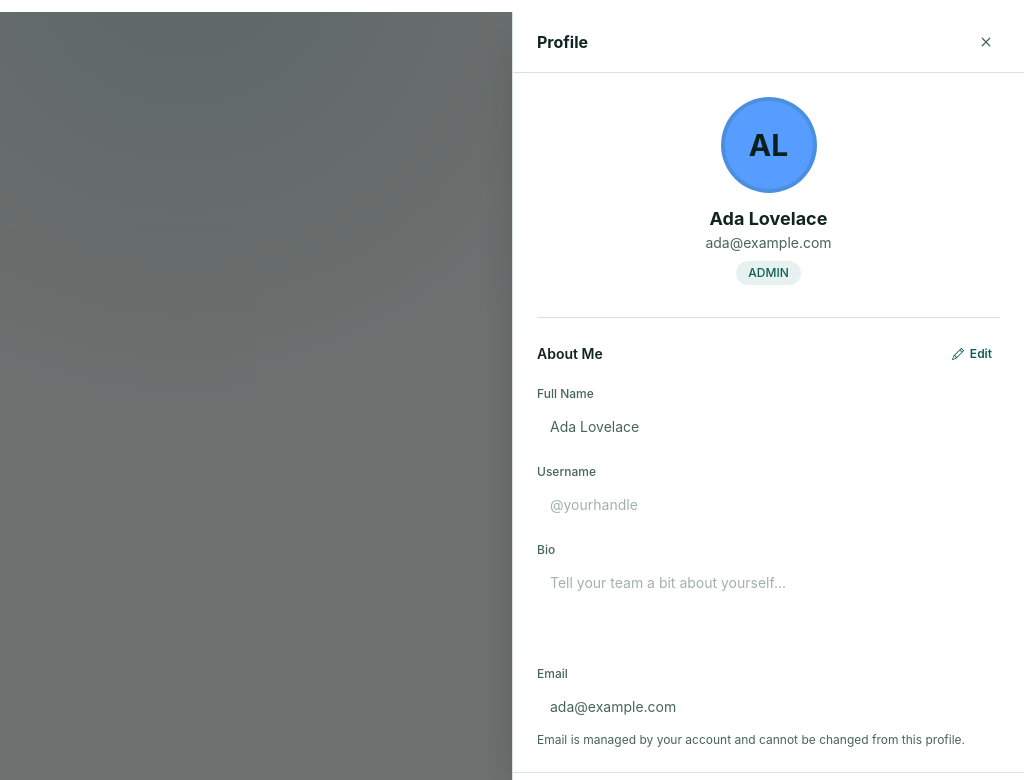
Test: profile form accessibility › lets a global administrator edit their own profile and change their own password
Click the button "Edit": (972, 354) [944,342,1000,366]
(page scrolled)
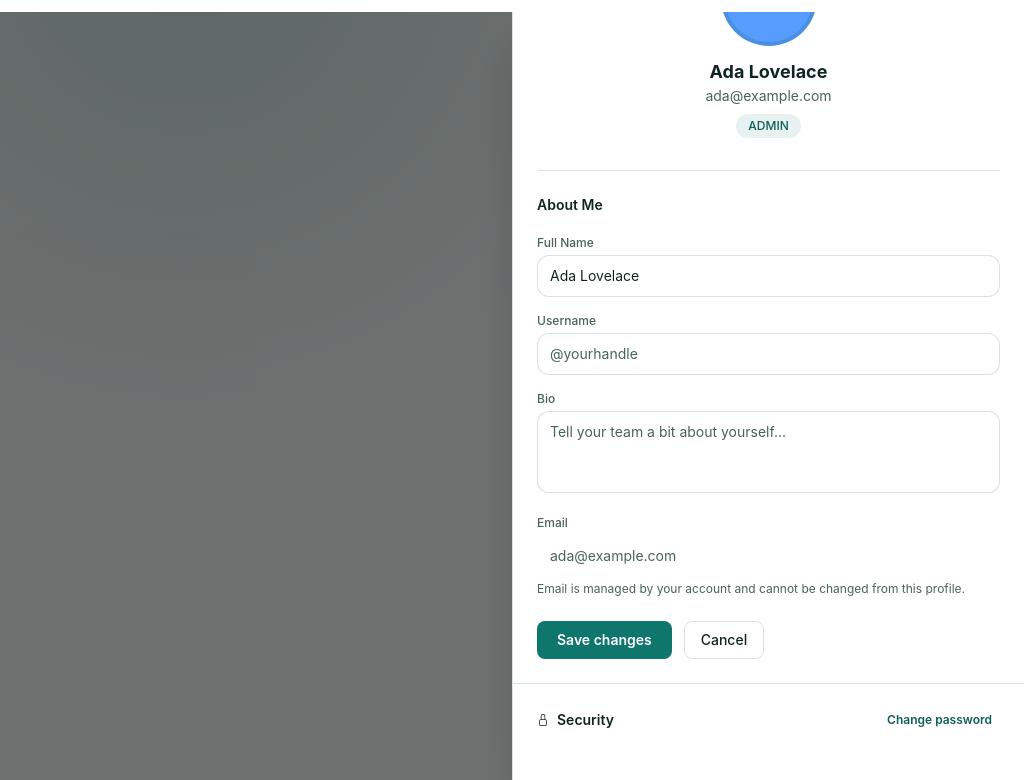
Expected: the button "Save changes" is shown, [537,621,672,659]
Expected: the field labelled "Full Name" is enabled, [537,255,1000,297]
Click the button "Change password": (940, 720) [879,708,1000,732]
(page scrolled)
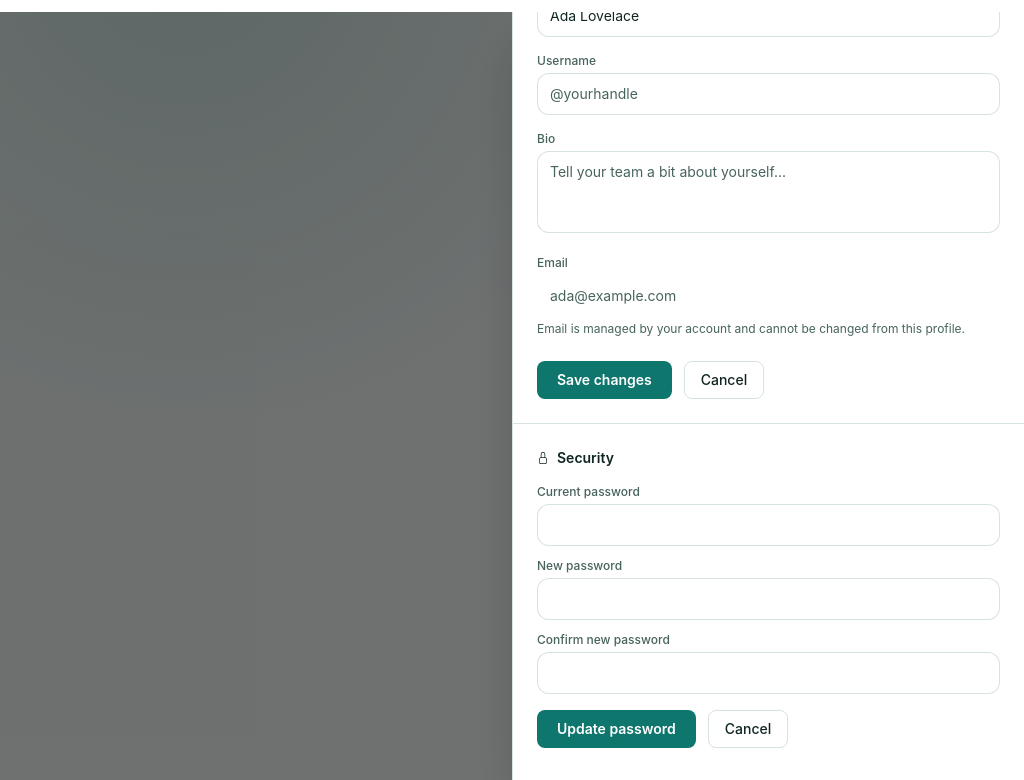
Expected: the password field labelled "Current password" is shown, [537,504,1000,546]
